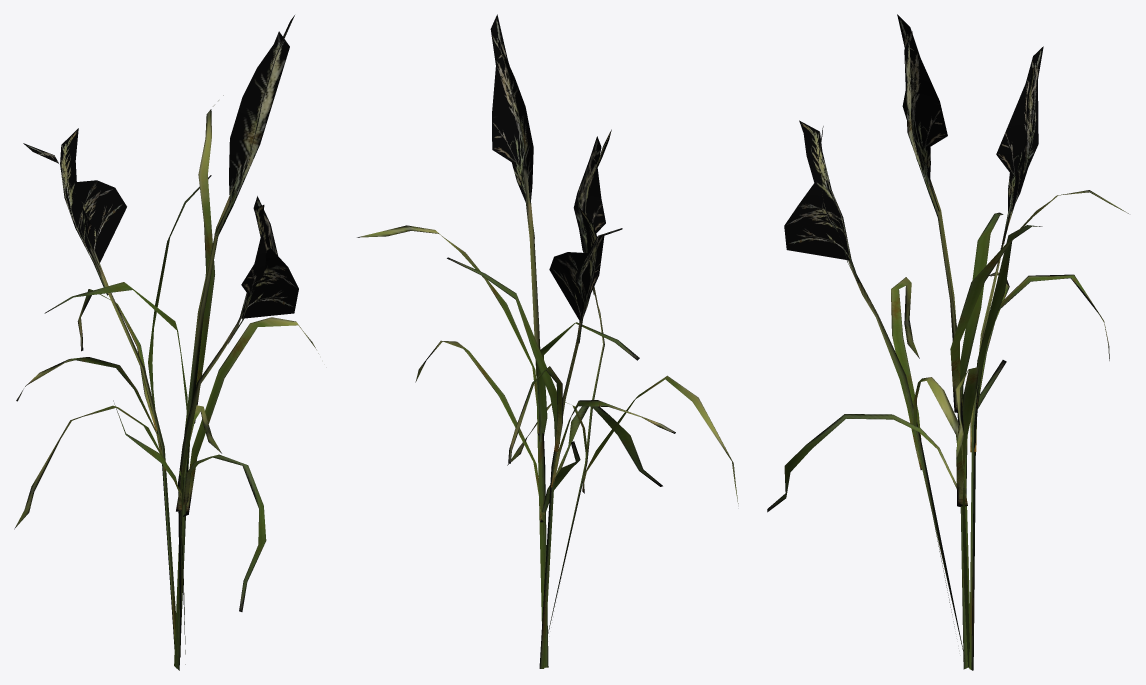
File: grass_medium_01_3.glb
The picture shows the model from 3 angles, left to right: view 1: azimuth 30°, elevation 25°; view 2: azimuth 150°, elevation 25°; view 3: azimuth 270°, elevation 25°; orthographic projection. The views are drawn at different scales.
Visible parts, largest first — view 1: grass_medium_01_tall_b_LOD0; view 2: grass_medium_01_tall_b_LOD0; view 3: grass_medium_01_tall_b_LOD0.
Boxes of the visible parts, x1,y1,x2,y2 form: grass_medium_01_tall_b_LOD0: (14,15,318,670); grass_medium_01_tall_b_LOD0: (357,14,738,668); grass_medium_01_tall_b_LOD0: (767,14,1128,670).
Bounding box in the file's own units: 0.1499 × 0.2857 × 0.1348.
Materials: 1 (1 with a texture image).
